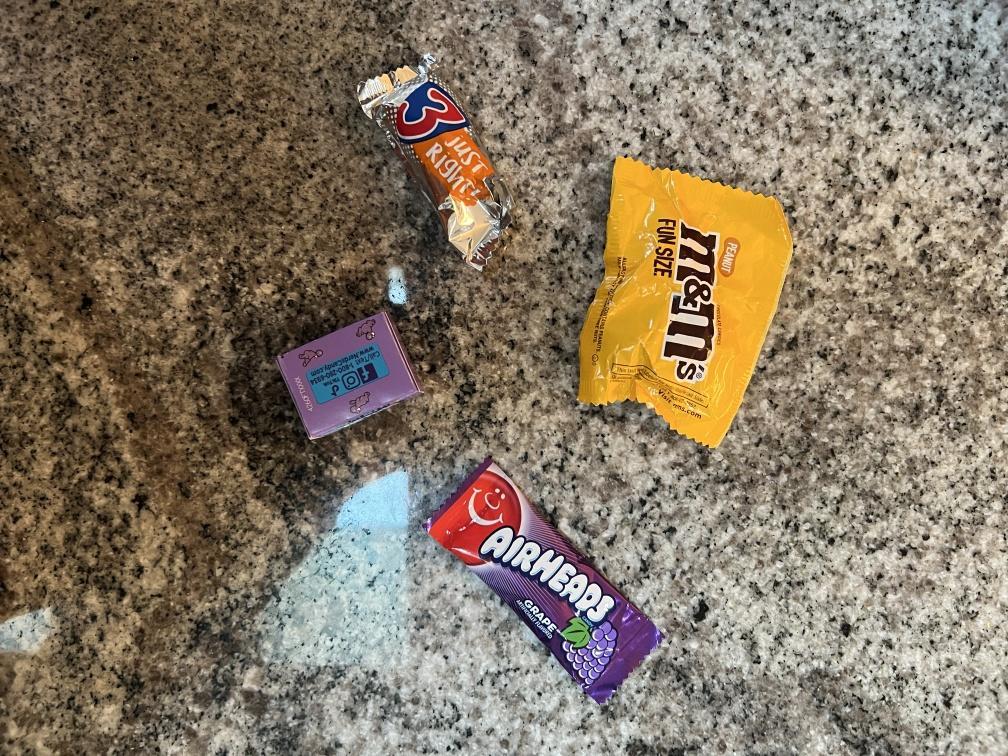MM_yellow: (576, 154, 791, 443)
airheads: (430, 457, 657, 701)
nerds: (276, 309, 428, 438)
three: (354, 57, 514, 271)
